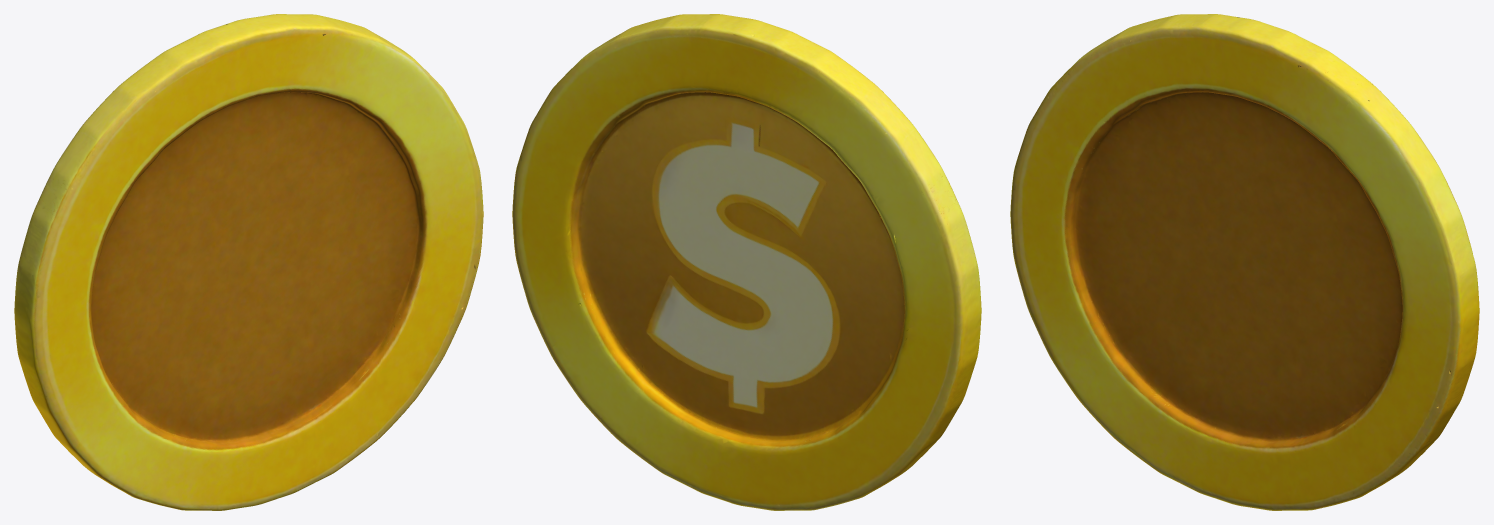
The model's file is coin.glb.
The picture shows the model from 3 angles, left to right: view 1: azimuth 30°, elevation 25°; view 2: azimuth 150°, elevation 25°; view 3: azimuth 330°, elevation 25°; orthographic projection.
Size of the model in its own units: 2 by 2 by 0.1598.
1 material, 1 textured.
